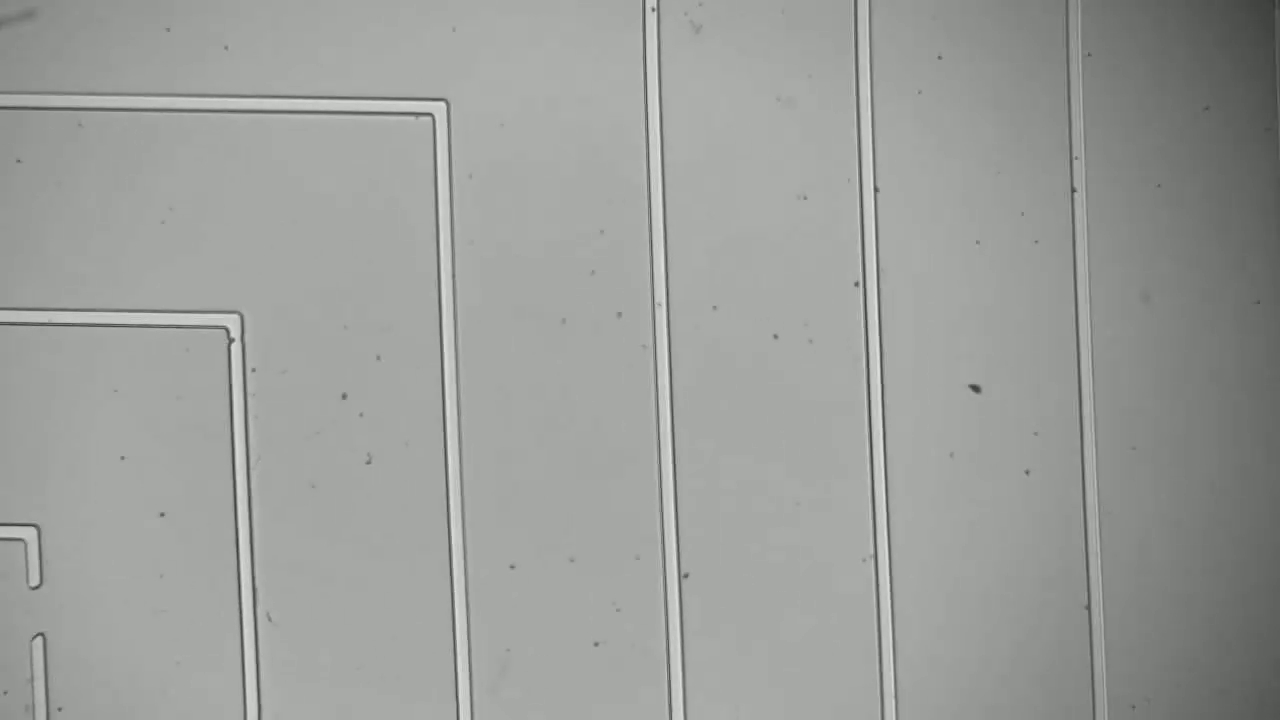open: (12, 564, 69, 652)
